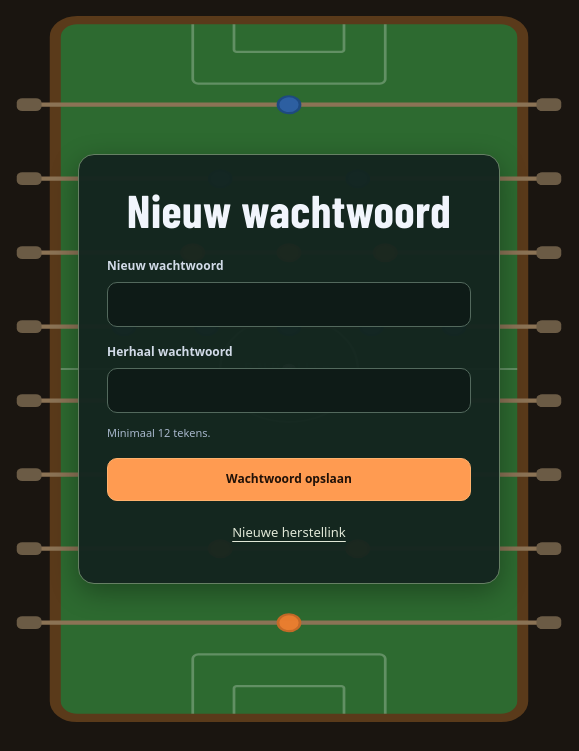
Test: strips the token, requires matching passwords and only resets on explicit submit
In the password field labelled "Nieuw wachtwoord": (289, 305) x1=107 y1=282 x2=471 y2=327, type "a-new-long-password"
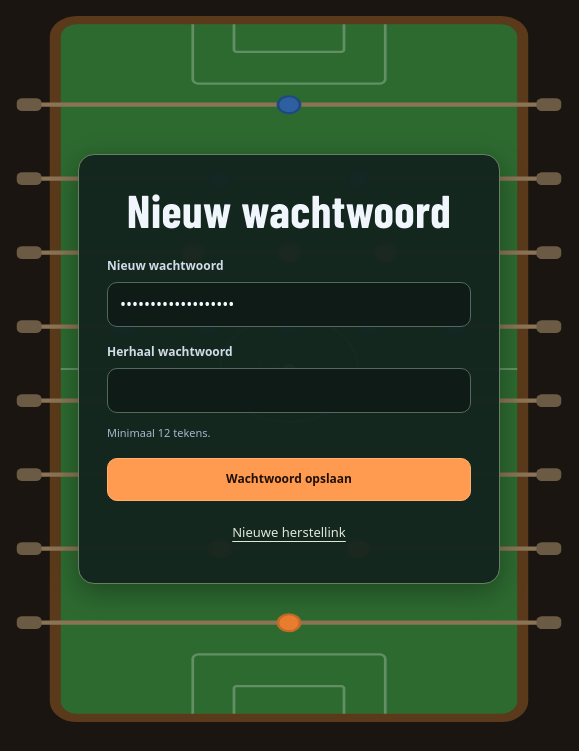
In the password field labelled "Herhaal wachtwoord": (289, 391) x1=107 y1=368 x2=471 y2=413, type "a-different-password"
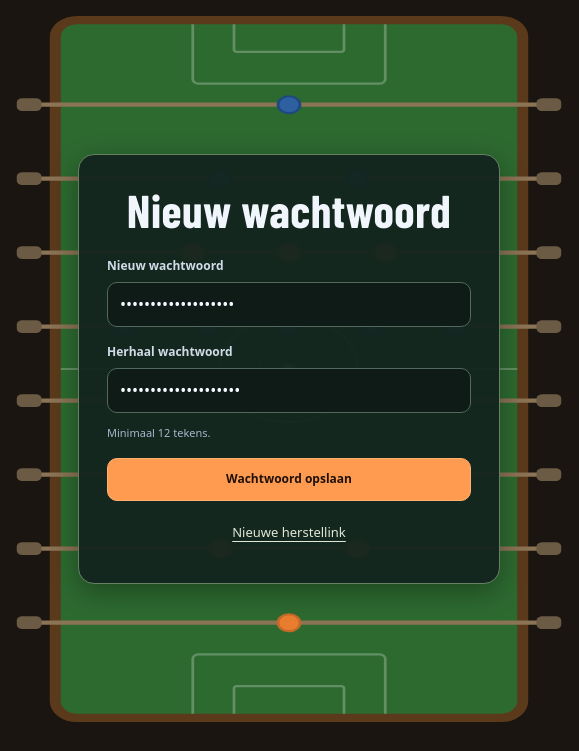
Submit the form, box x1=107 y1=258 x2=471 y2=501
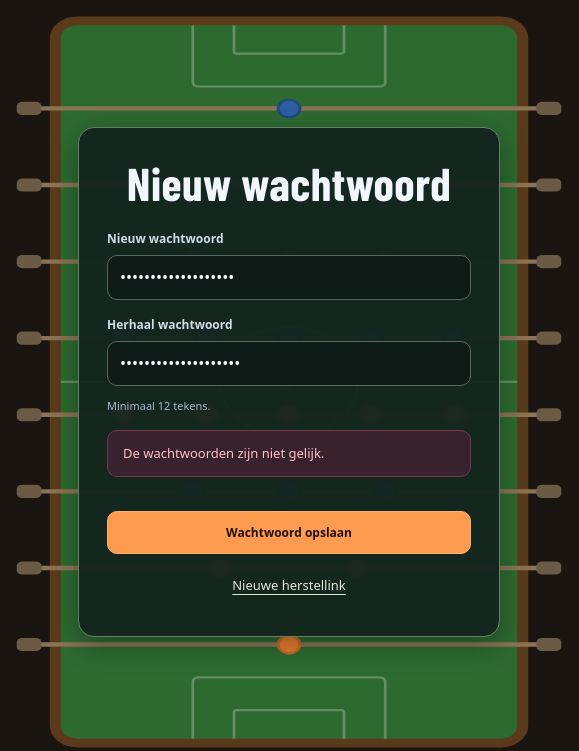
Result: the message "De wachtwoorden zijn niet gelijk." is shown at x1=107 y1=430 x2=471 y2=477
In the password field labelled "Herhaal wachtwoord": (289, 363) x1=107 y1=341 x2=471 y2=386, type "a-new-long-password"
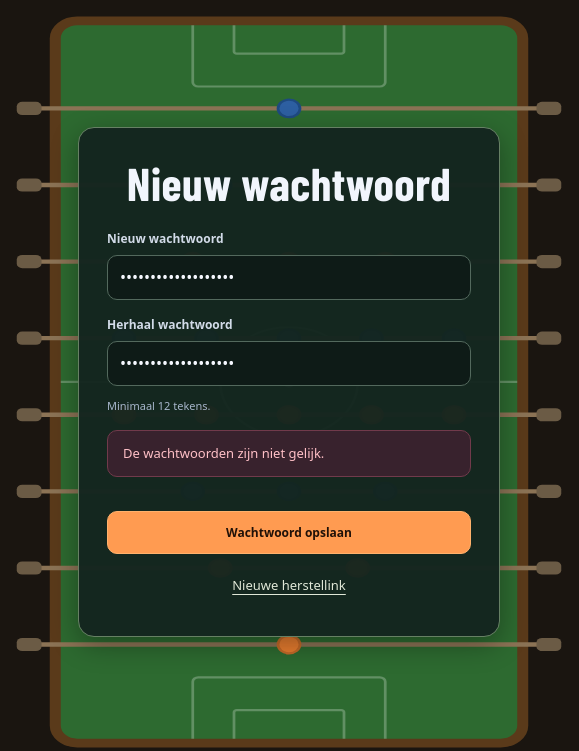
Submit the form, box x1=107 y1=230 x2=471 y2=554
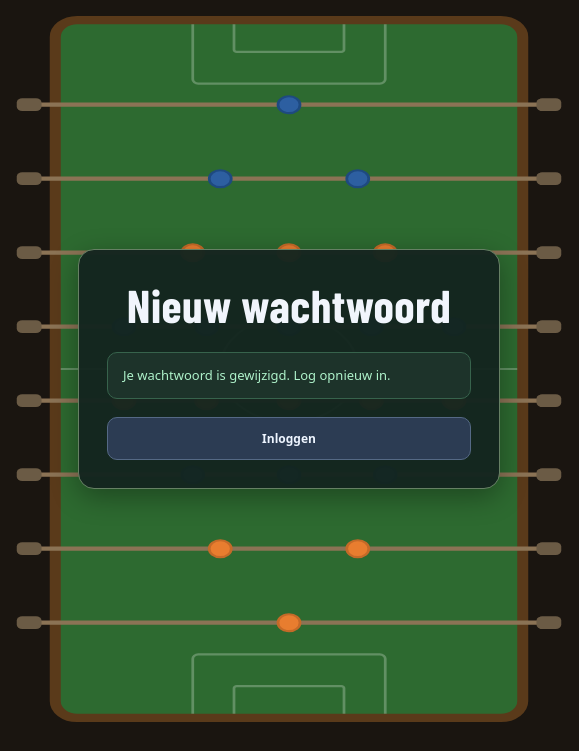
Result: the message "Je wachtwoord is gewijzigd. Log opnieuw in." is shown at x1=107 y1=352 x2=471 y2=399
Result: no password fields are shown
